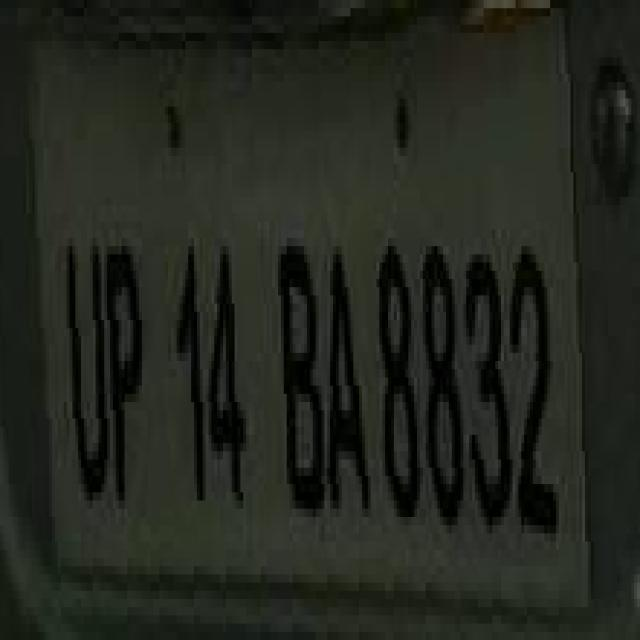license_plate: (32, 24, 628, 590)
